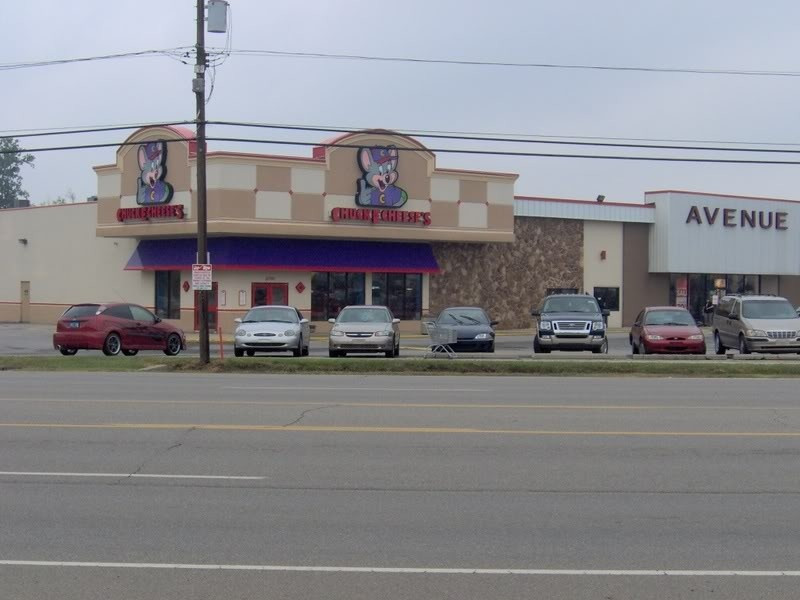text: (705, 205, 720, 232), (721, 205, 736, 232), (737, 205, 752, 232), (753, 205, 768, 232), (769, 205, 784, 232), (691, 205, 704, 232), (417, 206, 433, 227), (337, 206, 352, 227), (353, 206, 368, 227), (369, 206, 384, 227), (385, 206, 400, 227), (401, 206, 416, 227), (129, 204, 144, 224), (145, 204, 160, 224), (161, 204, 176, 224), (115, 204, 128, 224), (177, 204, 187, 224), (785, 205, 789, 232), (332, 206, 336, 227)
